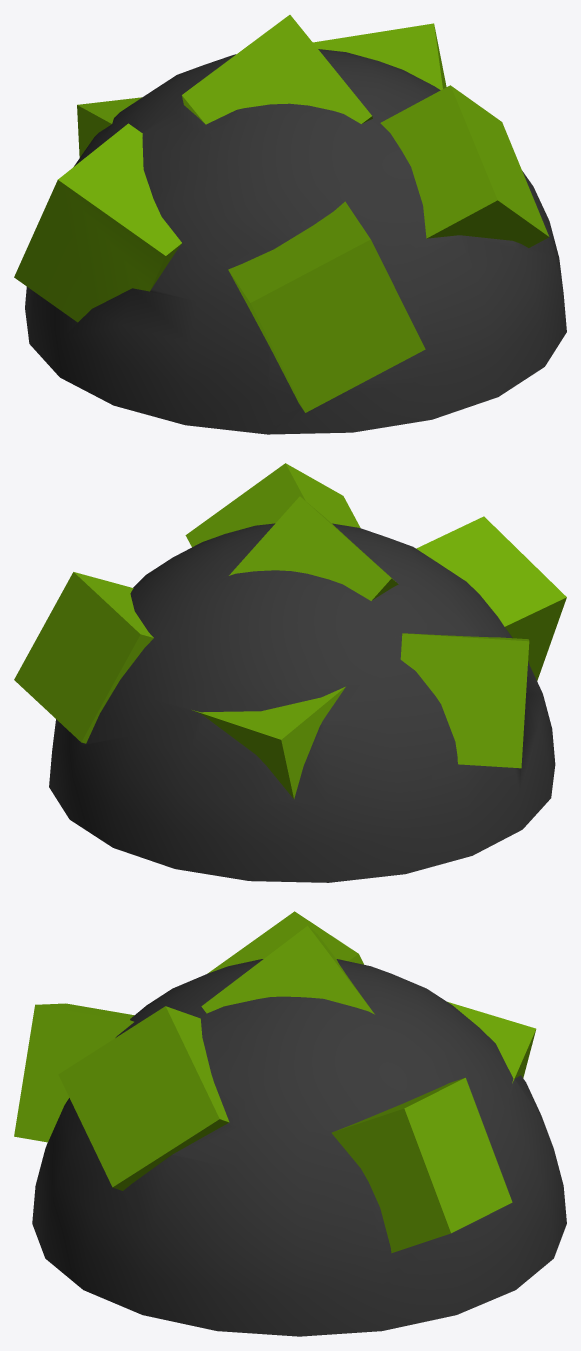
Rendered from propResourceNode01_Big.fbx.
3 views of the same model, one above another, from view 1: azimuth 30°, elevation 25°; view 2: azimuth 150°, elevation 25°; view 3: azimuth 270°, elevation 25° (orthographic). The views are drawn at different scales.
Visible parts, largest first — view 1: propResourceNode01; view 2: propResourceNode01; view 3: propResourceNode01.
Part boxes in pixels (bbox=[...]): propResourceNode01: bbox=[14, 15, 566, 434]; propResourceNode01: bbox=[14, 463, 566, 882]; propResourceNode01: bbox=[14, 911, 566, 1336].
Bounding box in the file's own units: 419 × 245 × 414.
